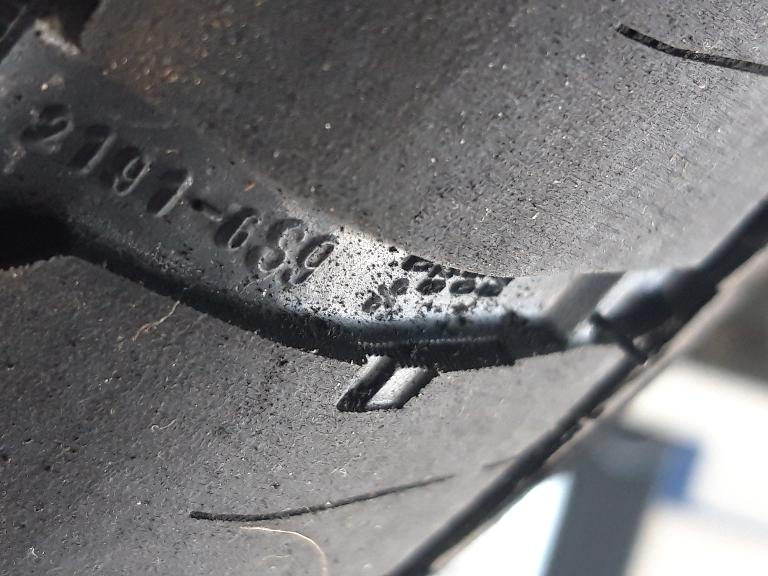temoin:25: (326, 328, 447, 424)
